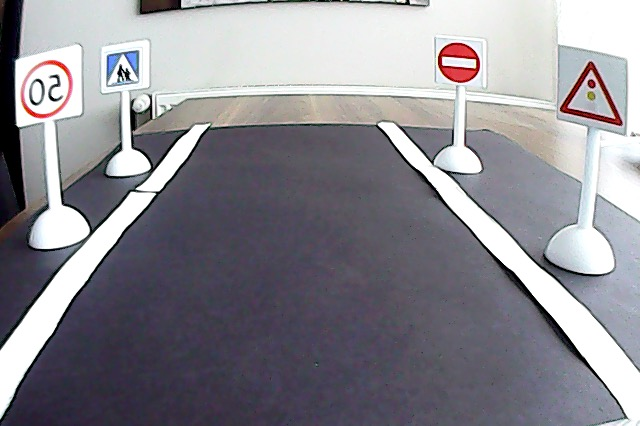do not enter: (155, 41, 206, 85)
red light: (13, 58, 84, 128)
school crossing: (494, 44, 538, 92)
speed limit 50: (564, 56, 623, 122)
